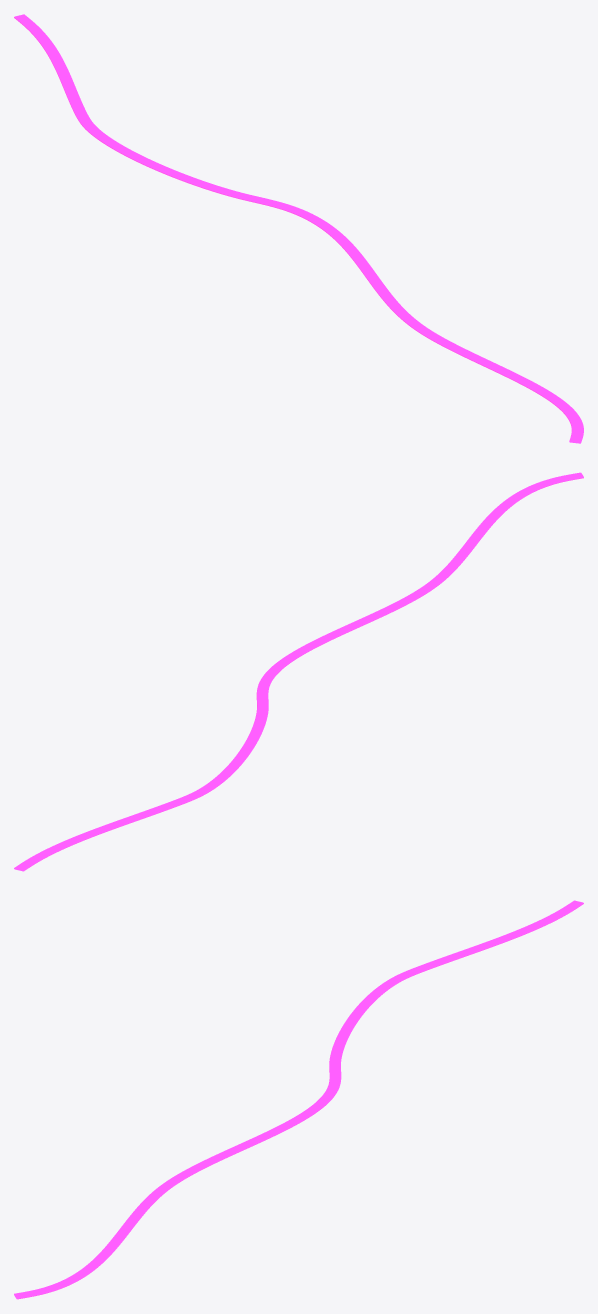
File: CurveLVL.fbx
3 renders of one model, top to bottom at view 1: azimuth 30°, elevation 25°; view 2: azimuth 150°, elevation 25°; view 3: azimuth 330°, elevation 25°, orthographic. The views are drawn at different scales.
Parts seen in each view (by area): view 1: BezierCurve.001; view 2: BezierCurve.001; view 3: BezierCurve.001.
Part boxes in pixels (x1,y1,x2,y2): BezierCurve.001: (14, 14, 583, 443); BezierCurve.001: (14, 472, 583, 871); BezierCurve.001: (14, 900, 583, 1299).
Size of the model in its own units: 7413 by 85438 by 138.
